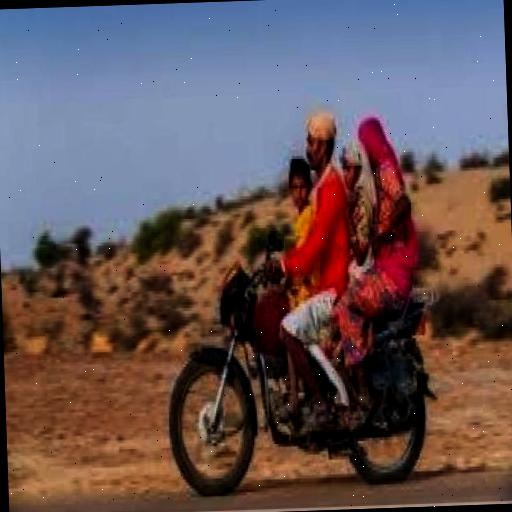no helmet: (308, 113, 360, 227)
triple riding: (162, 102, 429, 434)
